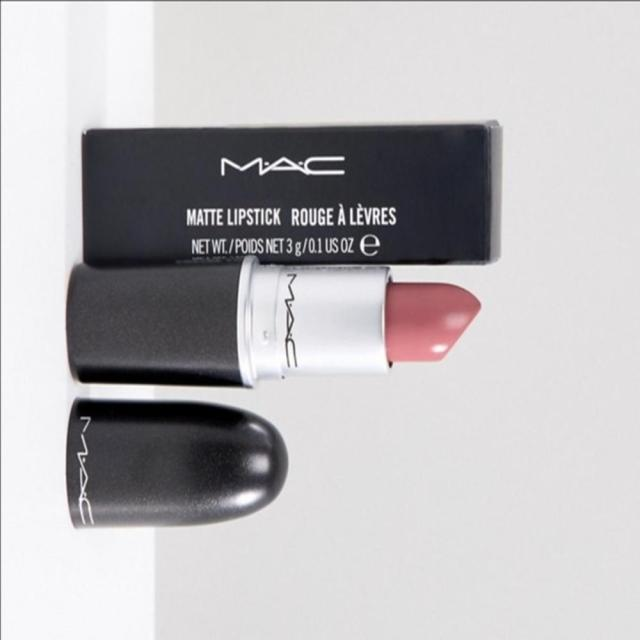lipstick: (26, 207, 506, 559)
